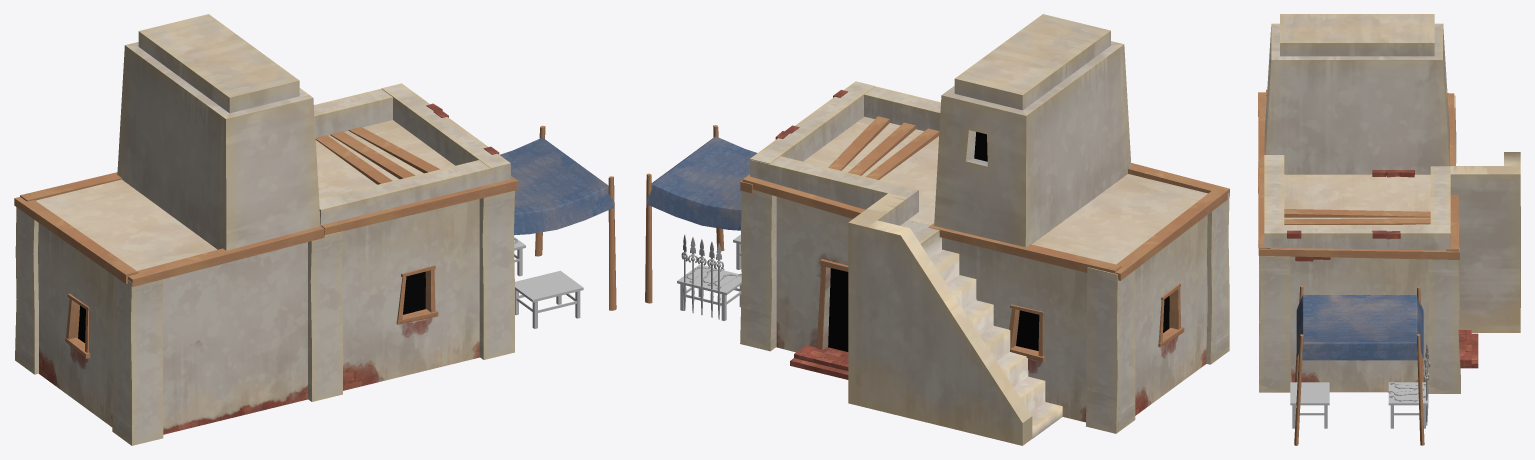
Rendered from SM_house_3.fbx.
The picture shows the model from 3 angles, left to right: view 1: azimuth 30°, elevation 25°; view 2: azimuth 150°, elevation 25°; view 3: azimuth 270°, elevation 25°; orthographic projection. The views are drawn at different scales.
Parts seen in each view (by area): view 1: kit1_carpet5, side20, side22, side19, side21, polySurface982, polySurface981, polySurface985, group29_pCube1295, polySurface986, polySurface987, polySurface988 (+1 smaller); view 2: kit1_carpet5, side21, side23, side20, polySurface984, polySurface985, group29_pCube1294, polySurface983, polySurface982, polySurface988, polySurface987, polySurface986; view 3: kit1_carpet5, side22, side23, polySurface979, polySurface988, group29_pCube1295, group29_pCube1294, polySurface987, polySurface981, polySurface982, polySurface983, polySurface984.
Part boxes in pixels (x1=…): kit1_carpet5: x1=36, y1=14, x2=616, y2=434; side20: x1=112, y1=276, x2=163, y2=445; side22: x1=479, y1=190, x2=514, y2=359; side19: x1=308, y1=231, x2=342, y2=401; side21: x1=15, y1=207, x2=38, y2=374; polySurface982: x1=128, y1=226, x2=324, y2=286; polySurface981: x1=321, y1=177, x2=516, y2=235; polySurface985: x1=14, y1=197, x2=138, y2=283; group29_pCube1295: x1=515, y1=270, x2=583, y2=328; polySurface986: x1=348, y1=127, x2=440, y2=173; polySurface987: x1=330, y1=131, x2=415, y2=179; polySurface988: x1=315, y1=135, x2=392, y2=184; kit1_carpet5: x1=645, y1=14, x2=1207, y2=445; side21: x1=1085, y1=267, x2=1135, y2=433; side23: x1=740, y1=189, x2=776, y2=351; side20: x1=1206, y1=193, x2=1229, y2=364; polySurface984: x1=928, y1=223, x2=1121, y2=272; polySurface985: x1=1108, y1=188, x2=1227, y2=280; group29_pCube1294: x1=677, y1=264, x2=741, y2=320; polySurface983: x1=742, y1=174, x2=865, y2=218; polySurface982: x1=1128, y1=163, x2=1229, y2=195; polySurface988: x1=865, y1=128, x2=939, y2=179; polySurface987: x1=848, y1=122, x2=915, y2=175; polySurface986: x1=828, y1=116, x2=889, y2=170; kit1_carpet5: x1=1264, y1=14, x2=1520, y2=445; side22: x1=1259, y1=256, x2=1291, y2=392; side23: x1=1427, y1=259, x2=1460, y2=393; polySurface979: x1=1259, y1=247, x2=1459, y2=259; polySurface988: x1=1284, y1=209, x2=1430, y2=217; group29_pCube1295: x1=1290, y1=382, x2=1329, y2=428; group29_pCube1294: x1=1388, y1=382, x2=1427, y2=428; polySurface987: x1=1284, y1=218, x2=1430, y2=224; polySurface981: x1=1258, y1=168, x2=1270, y2=255; polySurface982: x1=1258, y1=92, x2=1266, y2=167; polySurface983: x1=1446, y1=194, x2=1458, y2=251; polySurface984: x1=1447, y1=94, x2=1454, y2=166.
Bounding box in the file's own units: 11.73 × 6.93 × 6.16.
